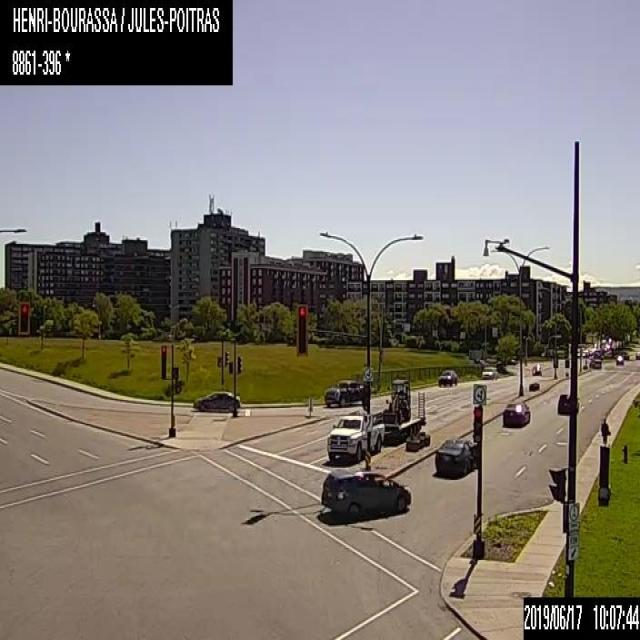pedestrian: (598, 416, 611, 447)
vehicle: (324, 378, 422, 460), (321, 467, 412, 520), (430, 435, 477, 477), (323, 377, 362, 407), (192, 390, 241, 412), (501, 399, 529, 428), (557, 393, 578, 415), (437, 368, 457, 387), (480, 365, 496, 379), (589, 357, 601, 368), (531, 364, 541, 376), (615, 354, 624, 364), (593, 348, 602, 358)
